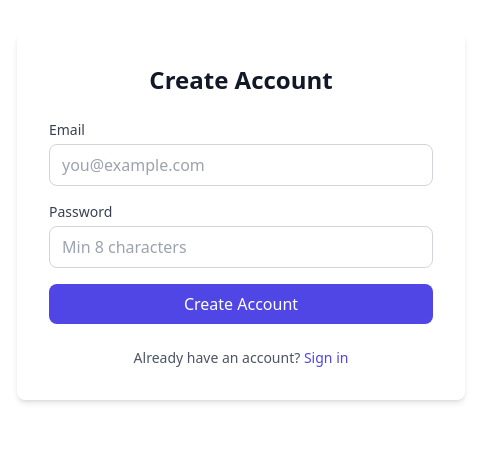
it: Register Page › shows API error on registration failure
The image size is (483, 461).
Type "existing@example.com" into the field labelled "Email" at {"x": 241, "y": 165}, box [49,144,433,186]
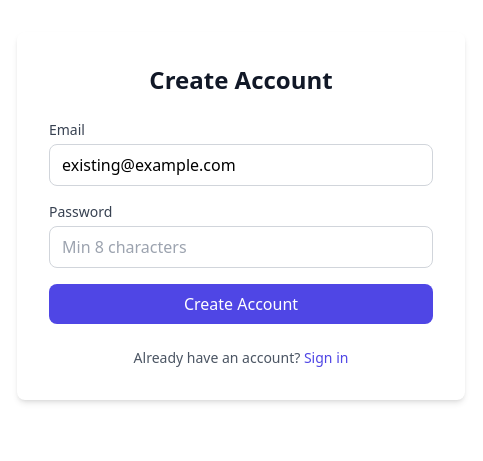
Type "password123" into the password field labelled "Password" at {"x": 241, "y": 247}, box [49,226,433,268]
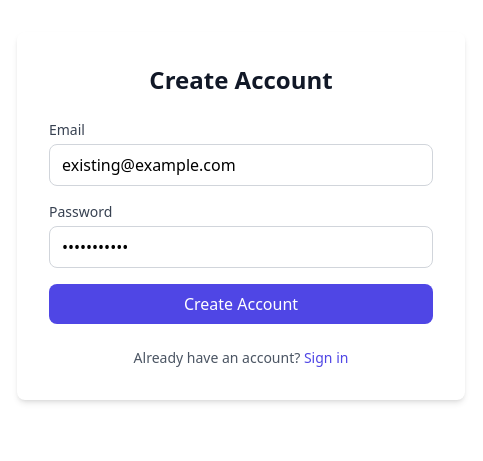
Submit the form, box [49,120,433,324]
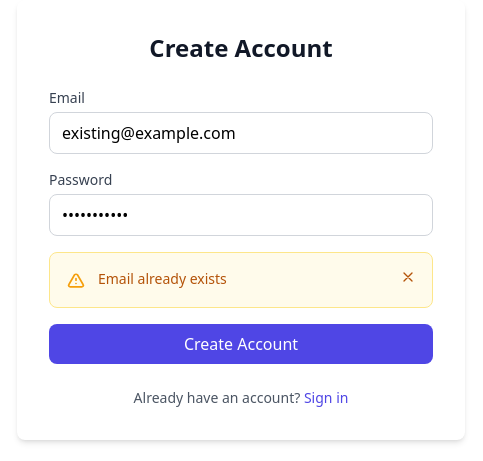
Expected: the text "Email already exists" is shown, [98,269,227,288]
